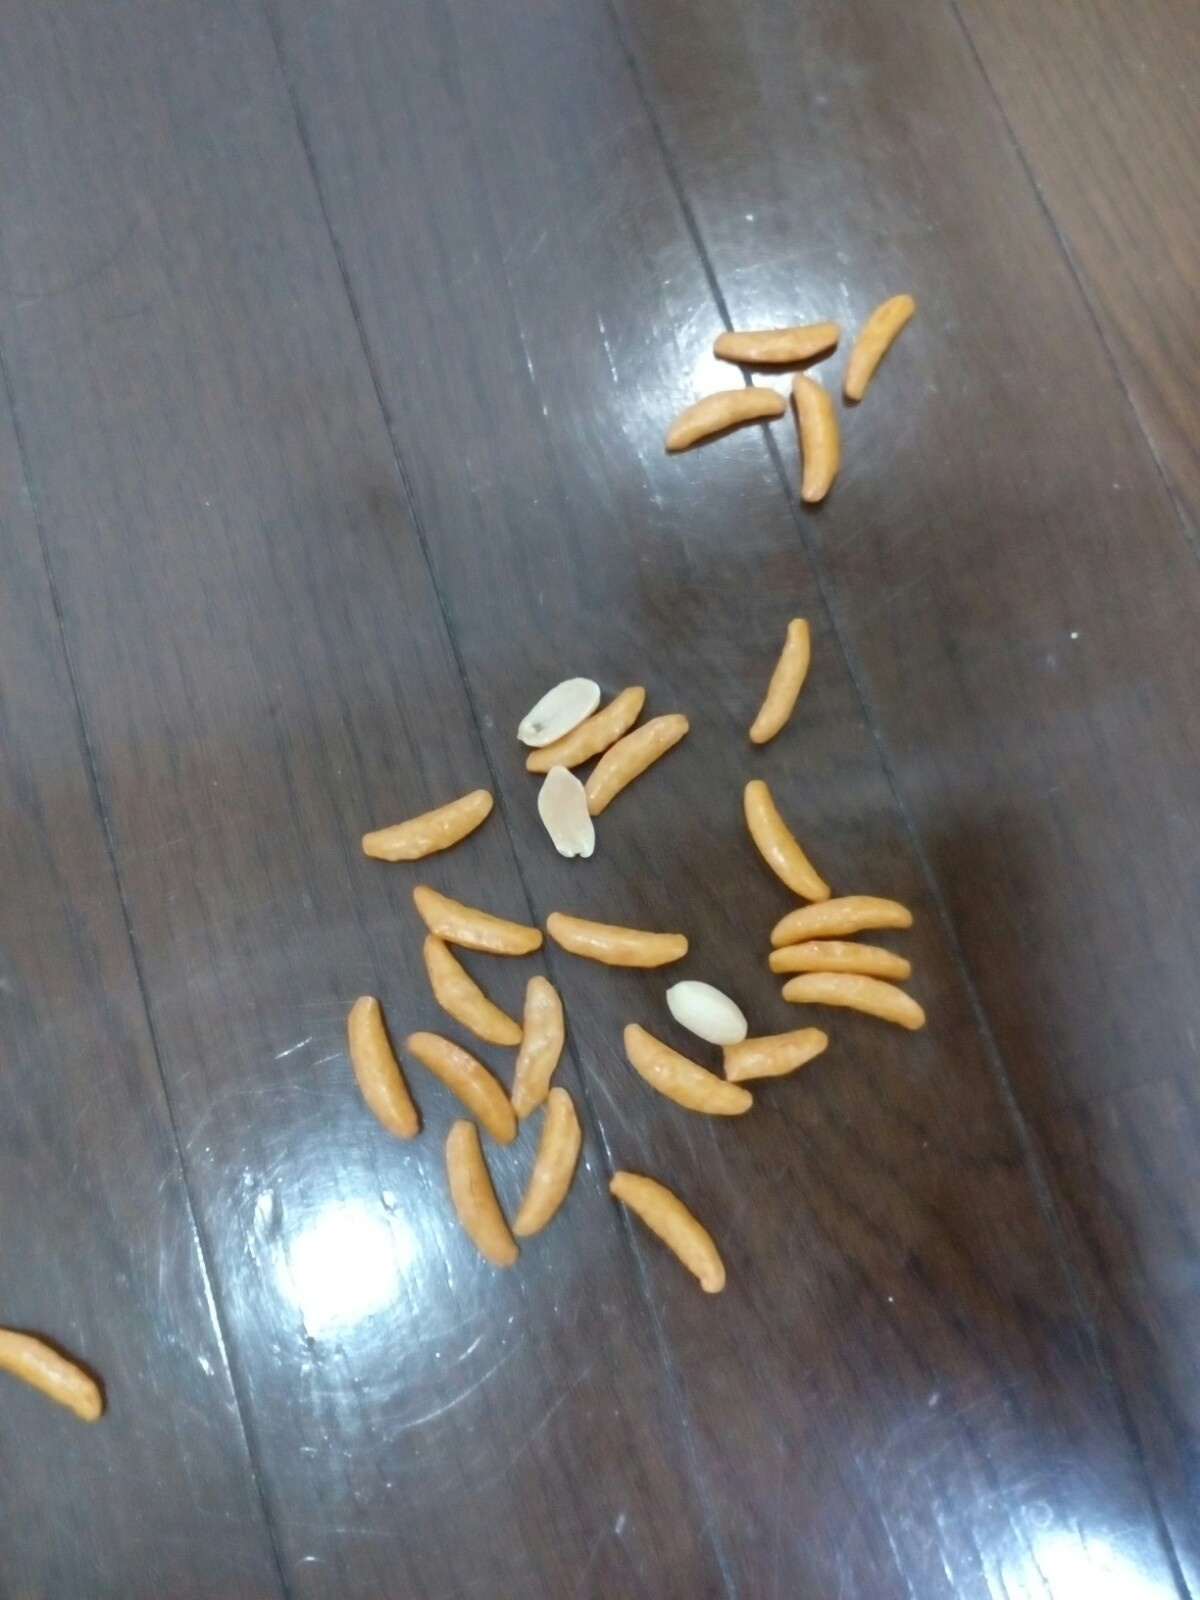peanut: (505, 666, 609, 750), (654, 974, 760, 1049), (531, 757, 605, 860)
